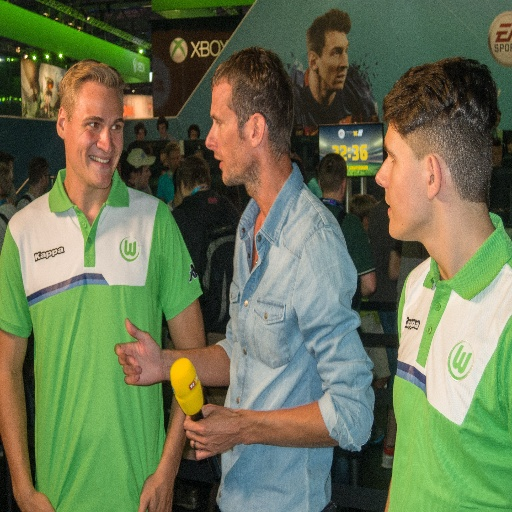hand: (112, 316, 165, 386), (177, 405, 242, 456), (135, 471, 175, 511), (20, 488, 56, 511)
